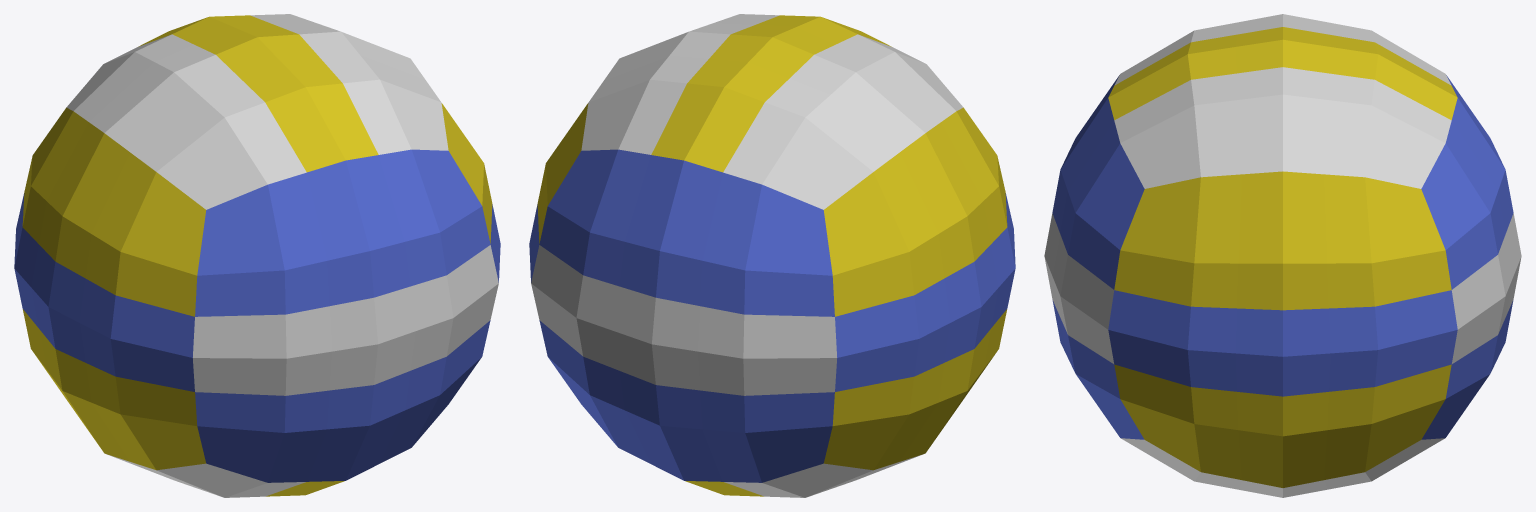
File: Volleyball.fbx
3 renders of one model, left to right at view 1: azimuth 30°, elevation 25°; view 2: azimuth 150°, elevation 25°; view 3: azimuth 270°, elevation 25°, orthographic.
Visible parts, largest first — view 1: Volleyball; view 2: Volleyball; view 3: Volleyball.
Part boxes in pixels (x1,y1,x2,y2): Volleyball: (14, 14, 500, 497); Volleyball: (529, 14, 1015, 497); Volleyball: (1044, 14, 1521, 497).
Size of the model in its own units: 193 by 193 by 193.
